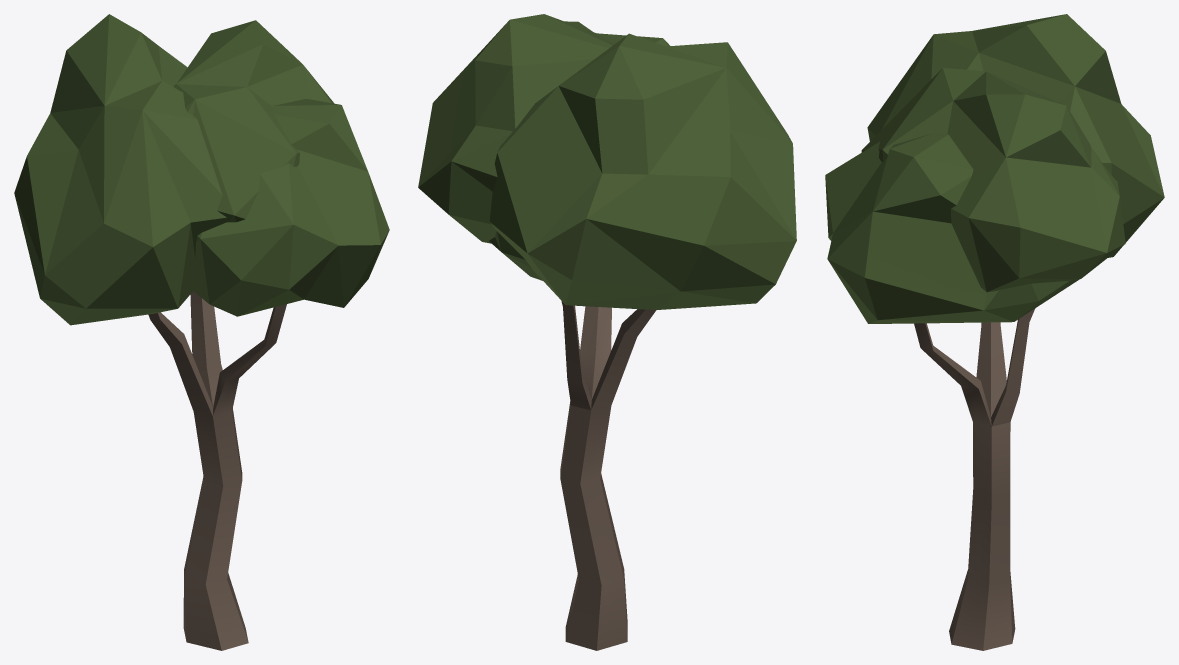
The model's file is LoofboomHoog2.fbx.
3 views of the same model, side by side, from view 1: azimuth 30°, elevation 25°; view 2: azimuth 150°, elevation 25°; view 3: azimuth 270°, elevation 25° (orthographic). The views are drawn at different scales.
Visible parts, largest first — view 1: polySurface3151; view 2: polySurface3151; view 3: polySurface3151.
Boxes of the visible parts, bbox=[...] form: polySurface3151: bbox=[14, 14, 389, 650]; polySurface3151: bbox=[418, 14, 796, 650]; polySurface3151: bbox=[825, 14, 1164, 650].
Size of the model in its own units: 6.49 by 11.83 by 6.14.
